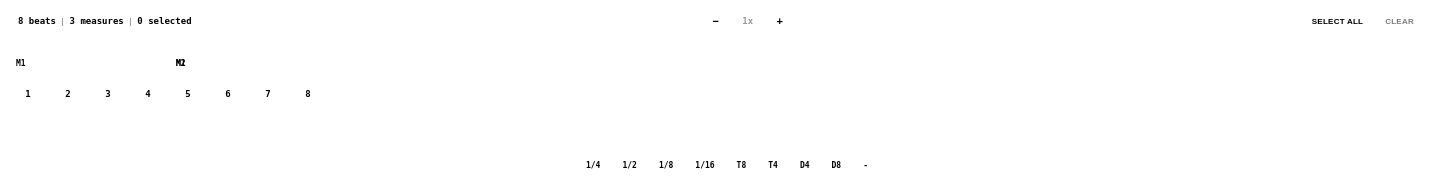
Test: BeatSubdivisionGrid › Selection Interactions - Ctrl/Cmd+Click Toggle › builds non-contiguous selection with multiple ctrl+clicks
Note: Click beat 1
Click the button "1". click: (28, 94)
box: [25,89,31,99]
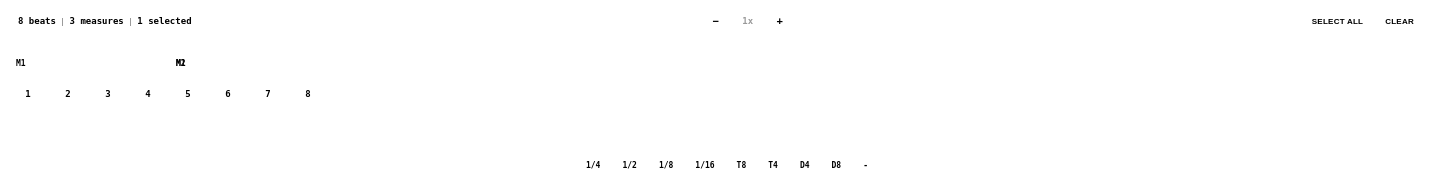
Note: Ctrl+click beats 3 and 5
Click the button "3". click: (108, 94)
box: [105,89,111,99]
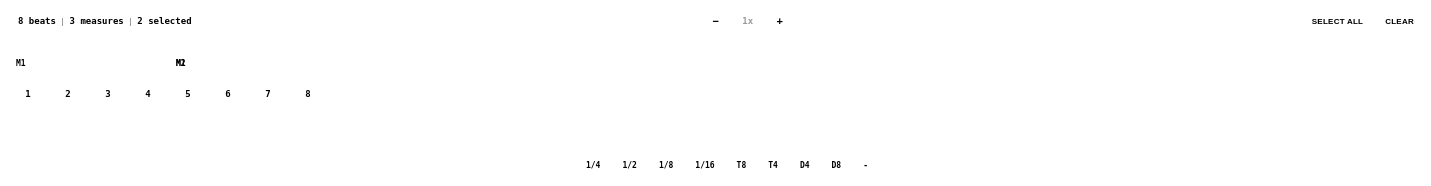
Click the button "5". click: (188, 94)
box: [185,89,191,99]
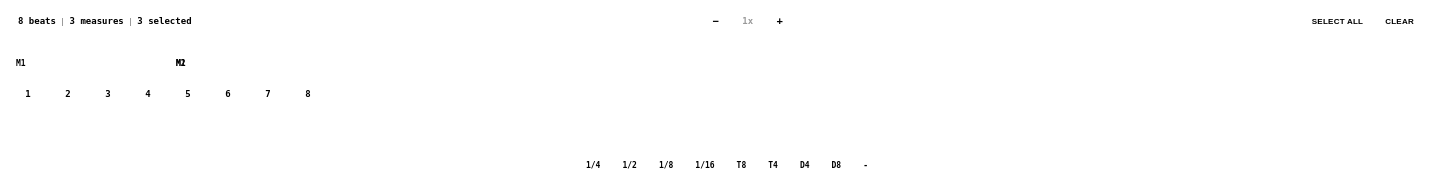
Result: the text "3 selected" is shown at [137,16,192,26]
